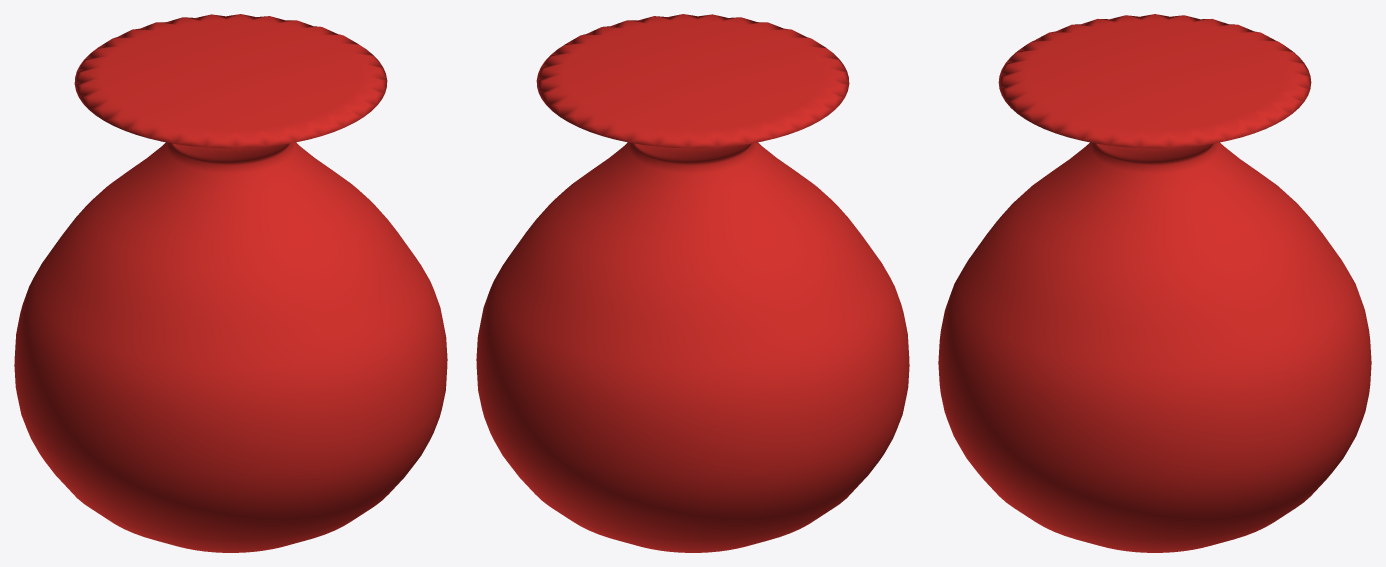
The model's file is pitcher2.dae.
3 renders of one model, left to right at view 1: azimuth 30°, elevation 25°; view 2: azimuth 150°, elevation 25°; view 3: azimuth 270°, elevation 25°, orthographic.
Parts seen in each view (by area): view 1: Cylinder_Cylinder_001; view 2: Cylinder_Cylinder_001; view 3: Cylinder_Cylinder_001.
Boxes of the visible parts, x1=… form: Cylinder_Cylinder_001: x1=14, y1=14, x2=447, y2=552; Cylinder_Cylinder_001: x1=476, y1=14, x2=909, y2=552; Cylinder_Cylinder_001: x1=938, y1=14, x2=1371, y2=552.
Size of the model in its own units: 4.31 by 4.31 by 5.04.
